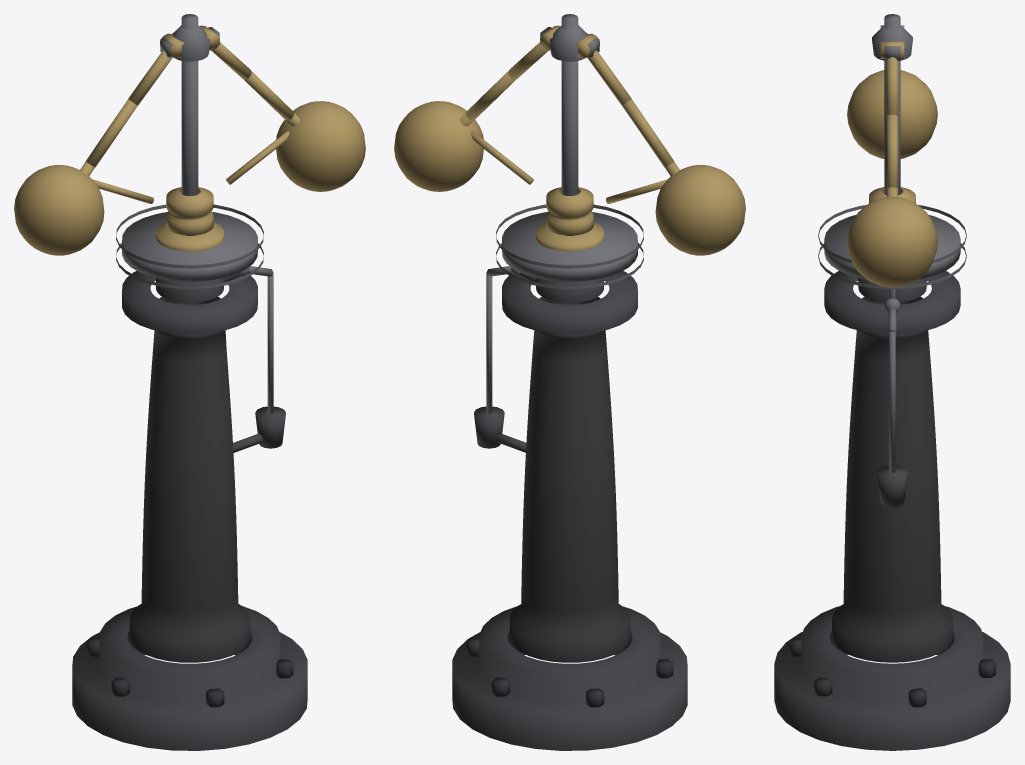
File: steam_governor.glb
3 views of the same model, side by side, from view 1: azimuth 30°, elevation 25°; view 2: azimuth 150°, elevation 25°; view 3: azimuth 270°, elevation 25° (orthographic).
Visible parts, largest first — view 1: govBase, govSpindle, govArm_L, govArm_R, govSleeve, govLever; view 2: govBase, govSpindle, govArm_L, govArm_R, govSleeve, govLever; view 3: govBase, govArm_R, govSpindle, govArm_L, govLever.
Part boxes in pixels (x1=…): govBase: x1=72, y1=271, x2=307, y2=750; govSpindle: x1=116, y1=14, x2=263, y2=289; govArm_L: x1=14, y1=33, x2=183, y2=255; govArm_R: x1=200, y1=25, x2=365, y2=191; govSleeve: x1=156, y1=187, x2=223, y2=251; govLever: x1=239, y1=266, x2=273, y2=413; govBase: x1=452, y1=271, x2=687, y2=750; govSpindle: x1=496, y1=14, x2=643, y2=289; govArm_L: x1=576, y1=33, x2=745, y2=255; govArm_R: x1=394, y1=25, x2=559, y2=191; govSleeve: x1=536, y1=187, x2=603, y2=251; govLever: x1=486, y1=266, x2=520, y2=413; govBase: x1=774, y1=271, x2=1010, y2=750; govArm_R: x1=847, y1=41, x2=937, y2=287; govSpindle: x1=818, y1=14, x2=966, y2=289; govArm_L: x1=847, y1=25, x2=937, y2=158; govLever: x1=884, y1=289, x2=900, y2=472.
Size of the model in its own units: 0.8643 by 1.66 by 0.52.
